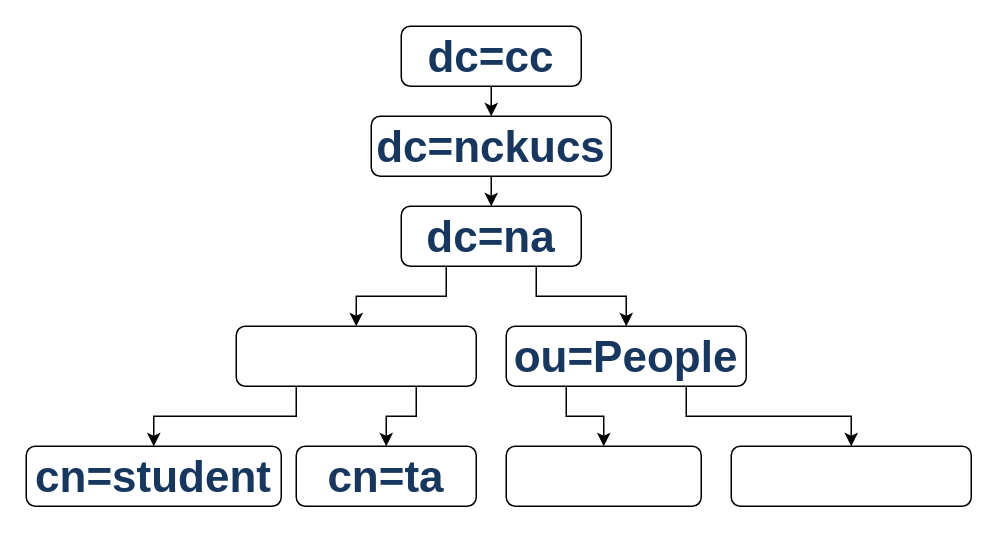
Some shapes in this 998 by 533 pixel diagram are drawn without their labels. The centre of each missing label's shape, as x and y in pixels:
"cn = chmy" belongs at point (850, 475).
"cn = vinc" belongs at point (603, 475).
"o u = Group" belongs at point (355, 355).
